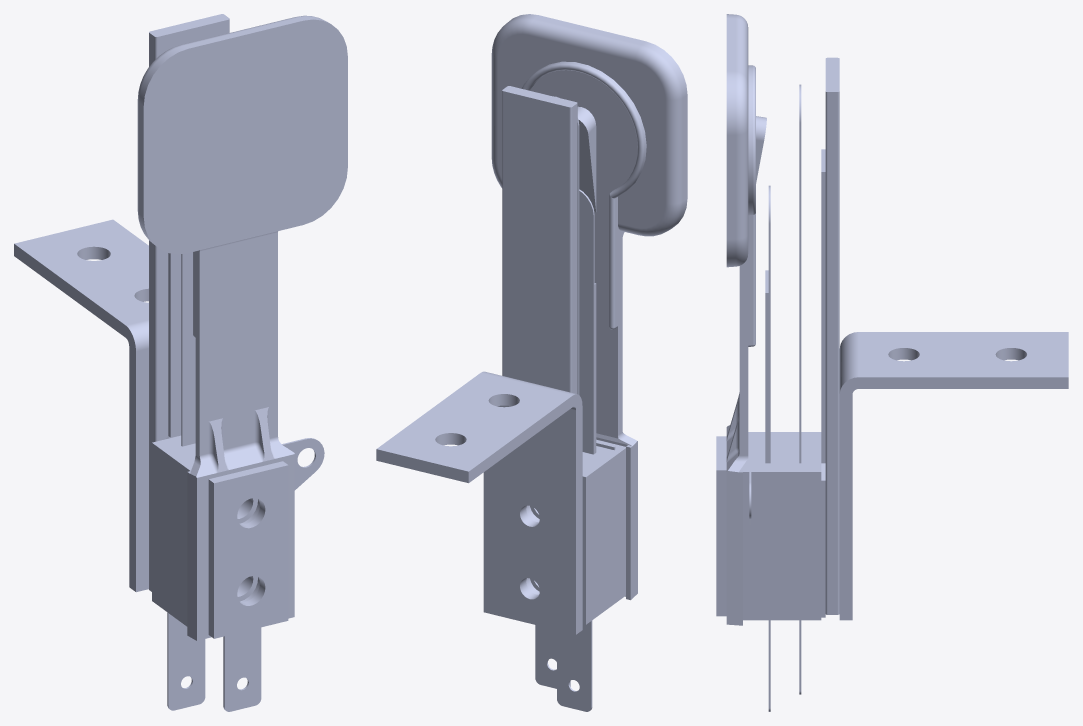
Rendered from Target 003 Rectangular.fbx.
The picture shows the model from 3 angles, left to right: view 1: azimuth 30°, elevation 25°; view 2: azimuth 150°, elevation 25°; view 3: azimuth 270°, elevation 25°; orthographic projection. The views are drawn at different scales.
Visible parts, largest first — view 1: Target3, Molded Target Switch, Target Mtg Angle 001, Target Washer Plate, Target Backing Bar, switch fish paper 001; view 2: Target3, Target Mtg Angle 001, Target Backing Bar, Molded Target Switch; view 3: Molded Target Switch, Target Mtg Angle 001, Target3, Target Backing Bar, switch fish paper 001, Target Washer Plate.
Boxes of the visible parts, box(x1,y1,x2,y2) form: Target3: box(137, 15, 347, 640); Molded Target Switch: box(152, 252, 324, 711); Target Mtg Angle 001: box(14, 219, 148, 592); Target Washer Plate: box(208, 461, 288, 638); Target Backing Bar: box(149, 14, 229, 591); switch fish paper 001: box(166, 253, 181, 438); Target3: box(491, 14, 687, 600); Target Mtg Angle 001: box(376, 371, 582, 634); Target Backing Bar: box(502, 86, 577, 594); Molded Target Switch: box(530, 96, 625, 711); Molded Target Switch: box(740, 84, 821, 711); Target Mtg Angle 001: box(839, 332, 1068, 620); Target3: box(726, 14, 766, 625); Target Backing Bar: box(825, 57, 839, 614); switch fish paper 001: box(821, 149, 825, 617); Target Washer Plate: box(716, 436, 726, 616).
Bounding box in the file's own units: 2.62 × 8.52 × 4.17.
